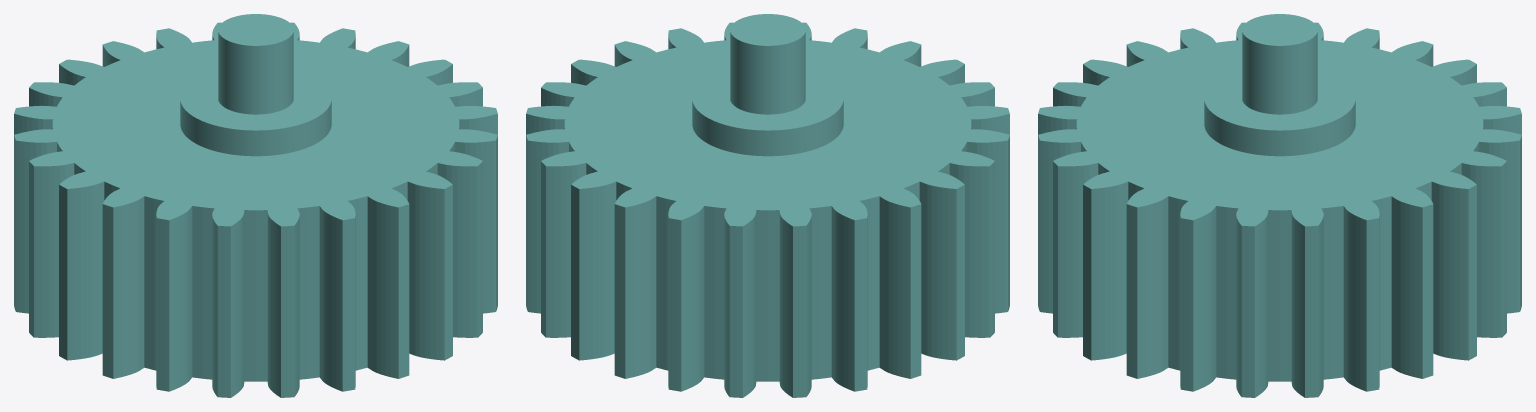
The model's file is step_08.glb.
3 renders of one model, left to right at view 1: azimuth 30°, elevation 25°; view 2: azimuth 150°, elevation 25°; view 3: azimuth 270°, elevation 25°, orthographic.
Visible parts, largest first — view 1: part__planet gear 1; view 2: part__planet gear 1; view 3: part__planet gear 1.
Boxes of the visible parts, bbox=[...] form: part__planet gear 1: bbox=[14, 14, 497, 397]; part__planet gear 1: bbox=[526, 14, 1009, 397]; part__planet gear 1: bbox=[1038, 14, 1521, 397].
Bounding box in the file's own units: 25.56 × 15.5 × 25.56.
